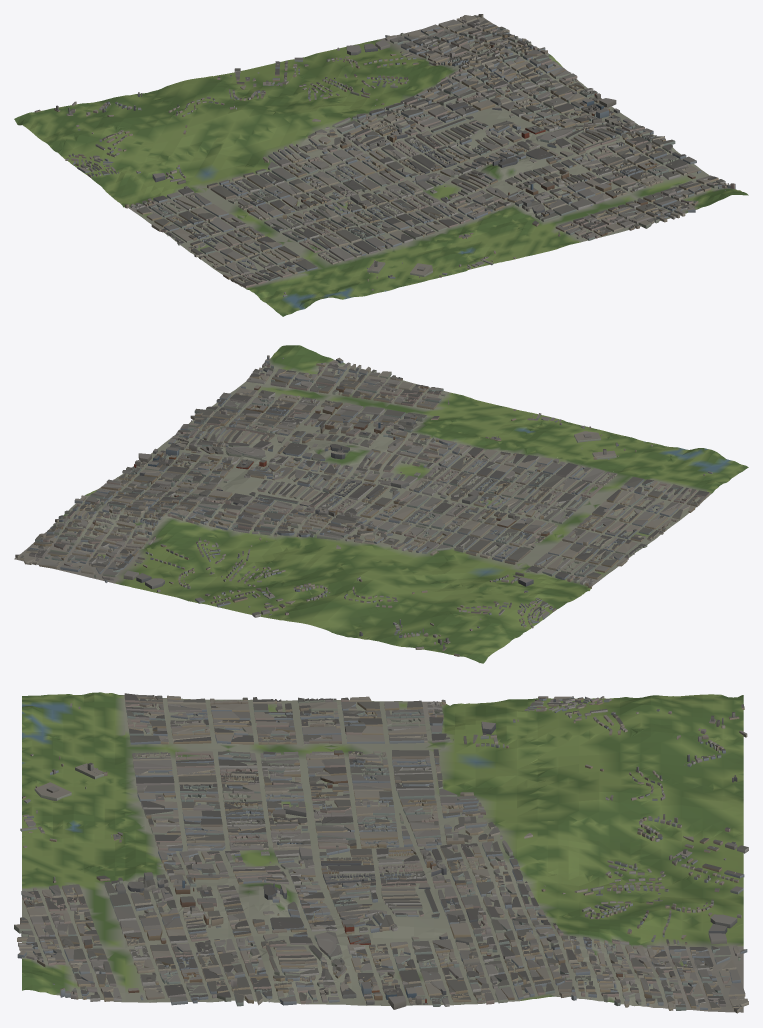
3 renders of one model, top to bottom at view 1: azimuth 30°, elevation 25°; view 2: azimuth 150°, elevation 25°; view 3: azimuth 270°, elevation 25°, orthographic. The views are drawn at different scales.
Parts seen in each view (by area): view 1: far; view 2: far; view 3: far.
Boxes of the visible parts, left/top/right/bottom form: far: left=14, top=14, right=748, bottom=316; far: left=14, top=345, right=748, bottom=663; far: left=14, top=692, right=748, bottom=1013.
Bounding box in the file's own units: 3565 × 163 × 3565.
